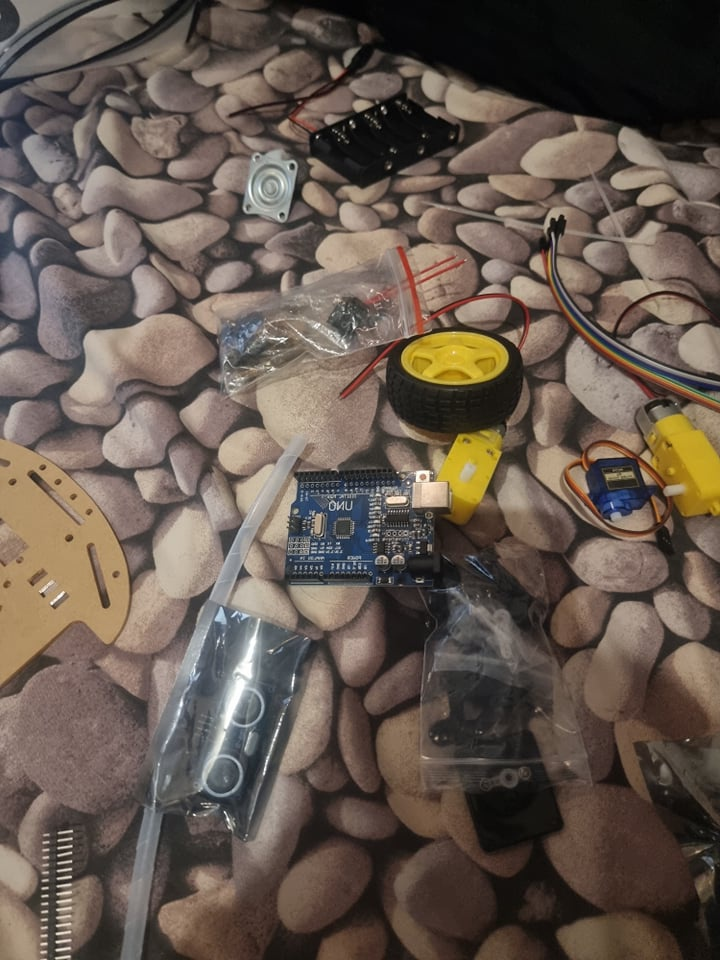BATTERY BOX: (309, 91, 460, 186)
SENSOR: (200, 676, 266, 808)
UNO R3: (281, 459, 453, 590)
